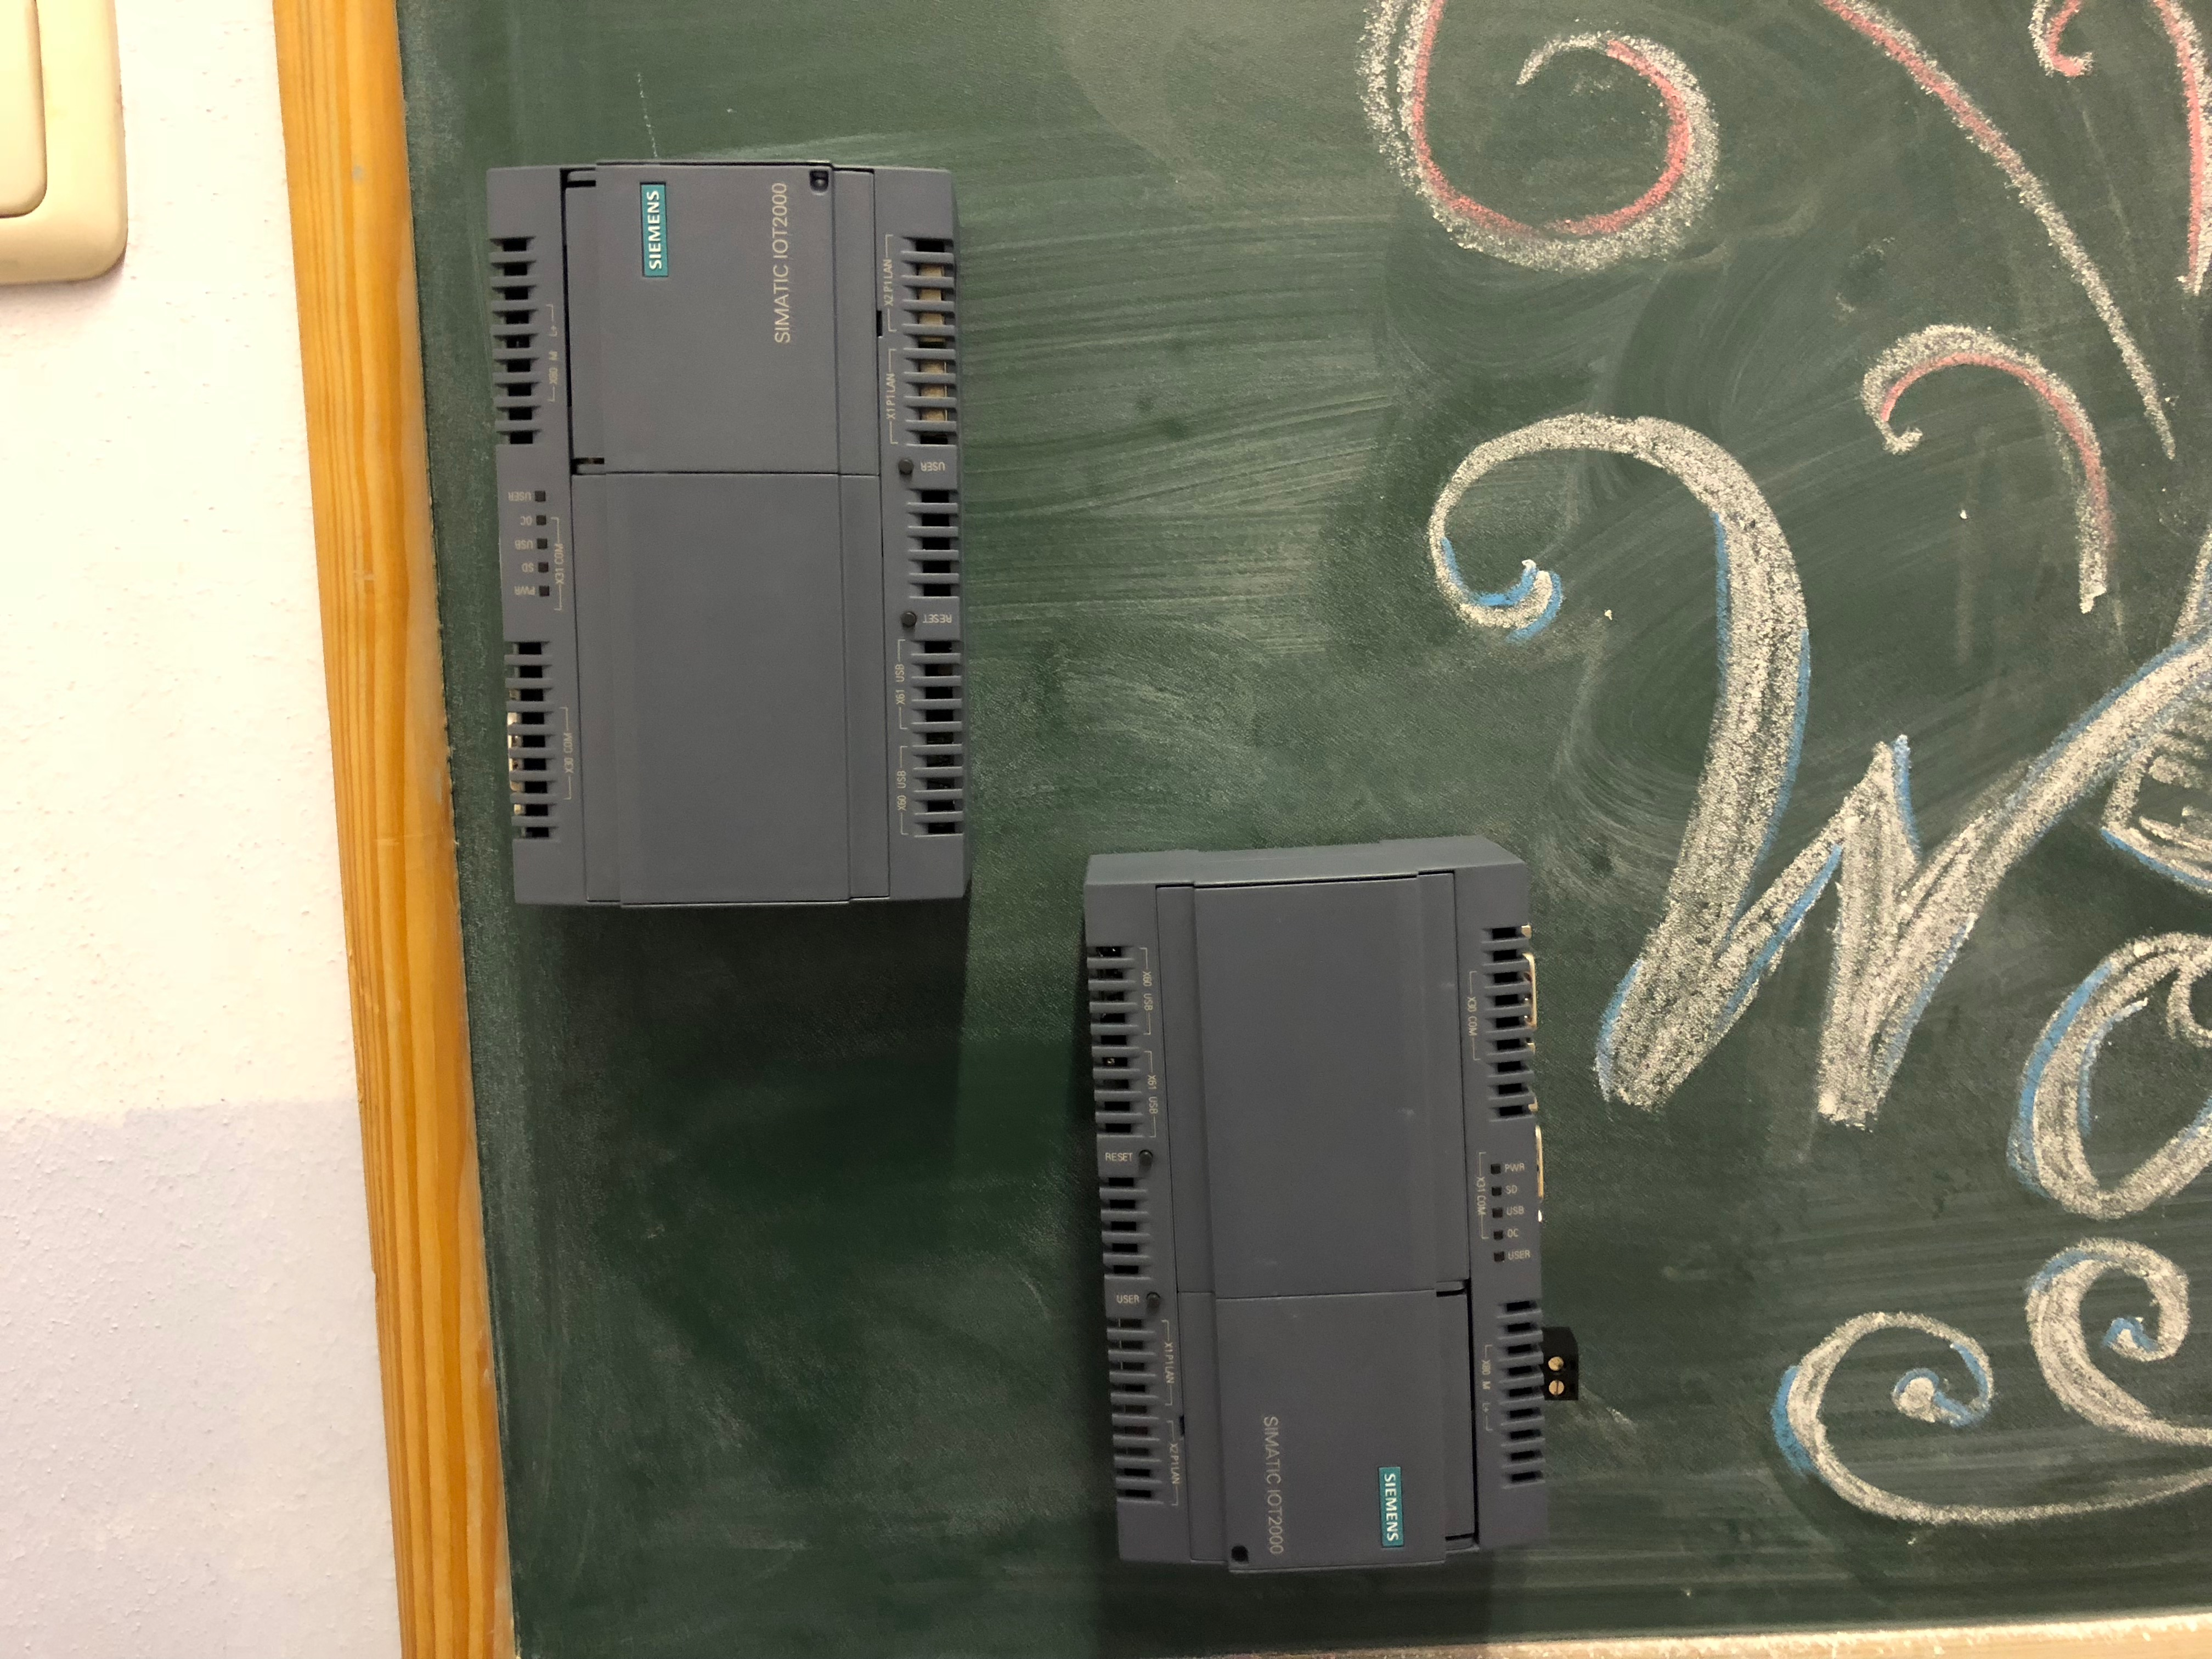device: (1083, 835, 1580, 1575), (486, 159, 972, 910)
